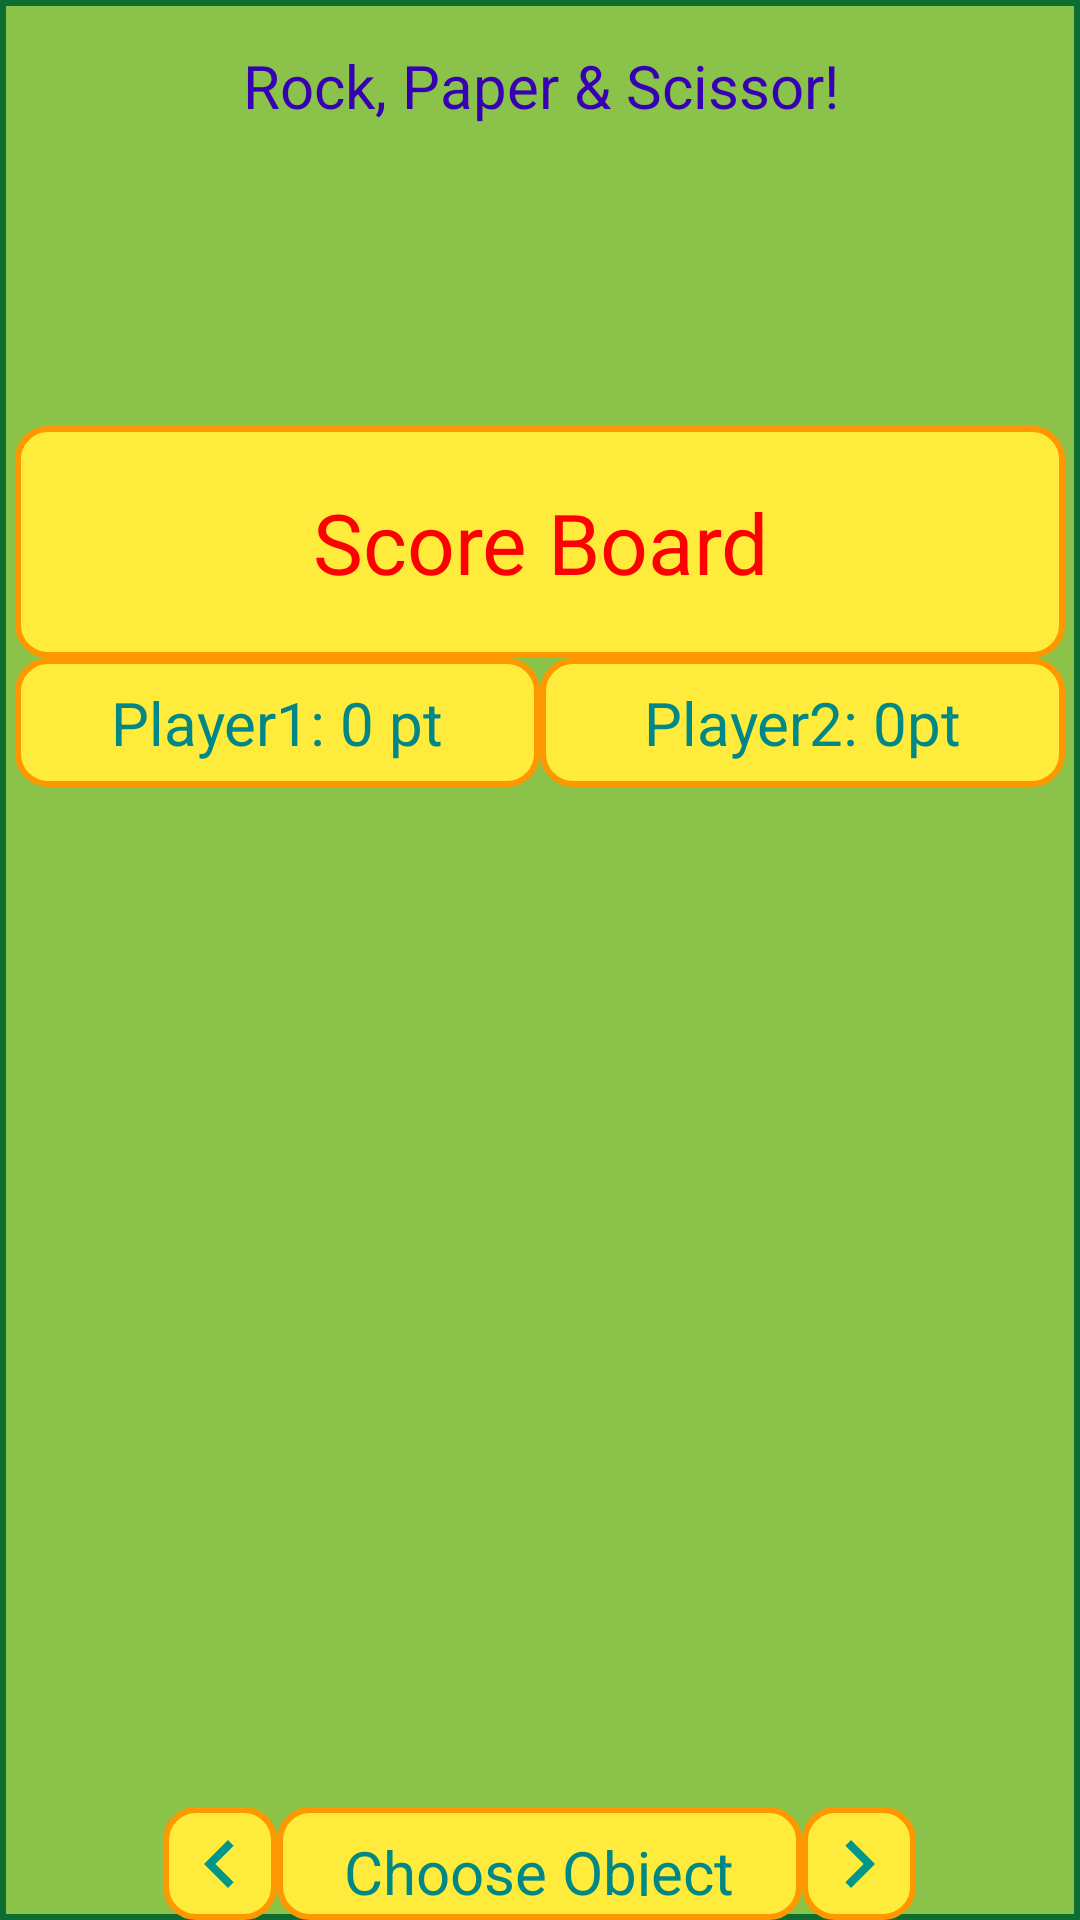

Locate icon controls on the screen. Image size 1080px×1920px, boxes as (x1, y1, x2, y2).
next: (802, 1807, 916, 1920)
prev: (163, 1807, 277, 1920)
